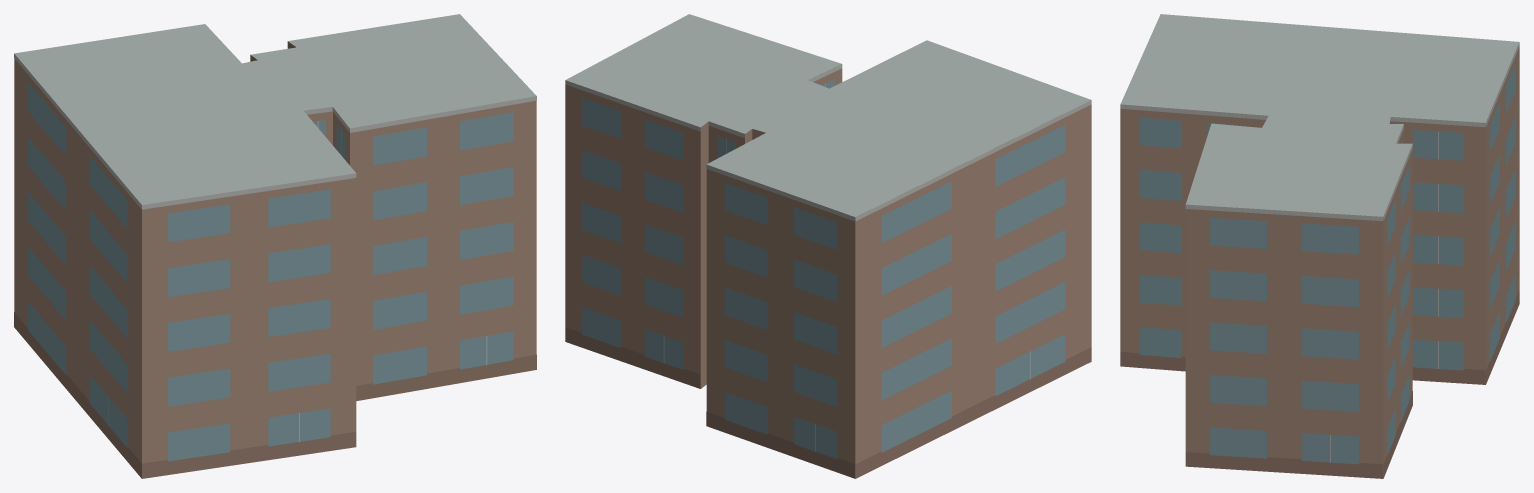
The model's file is survey-upis-32676896.glb.
3 renders of one model, left to right at view 1: azimuth 30°, elevation 25°; view 2: azimuth 150°, elevation 25°; view 3: azimuth 270°, elevation 25°, orthographic. The views are drawn at different scales.
Visible parts, largest first — view 1: survey-upis-32676896.tmp; view 2: survey-upis-32676896.tmp; view 3: survey-upis-32676896.tmp.
Part boxes in pixels (x1,y1,x2,y2): survey-upis-32676896.tmp: (14, 14, 536, 478); survey-upis-32676896.tmp: (565, 14, 1091, 478); survey-upis-32676896.tmp: (1120, 14, 1519, 478).
Size of the model in its own units: 24.58 by 14.8 by 20.44.
